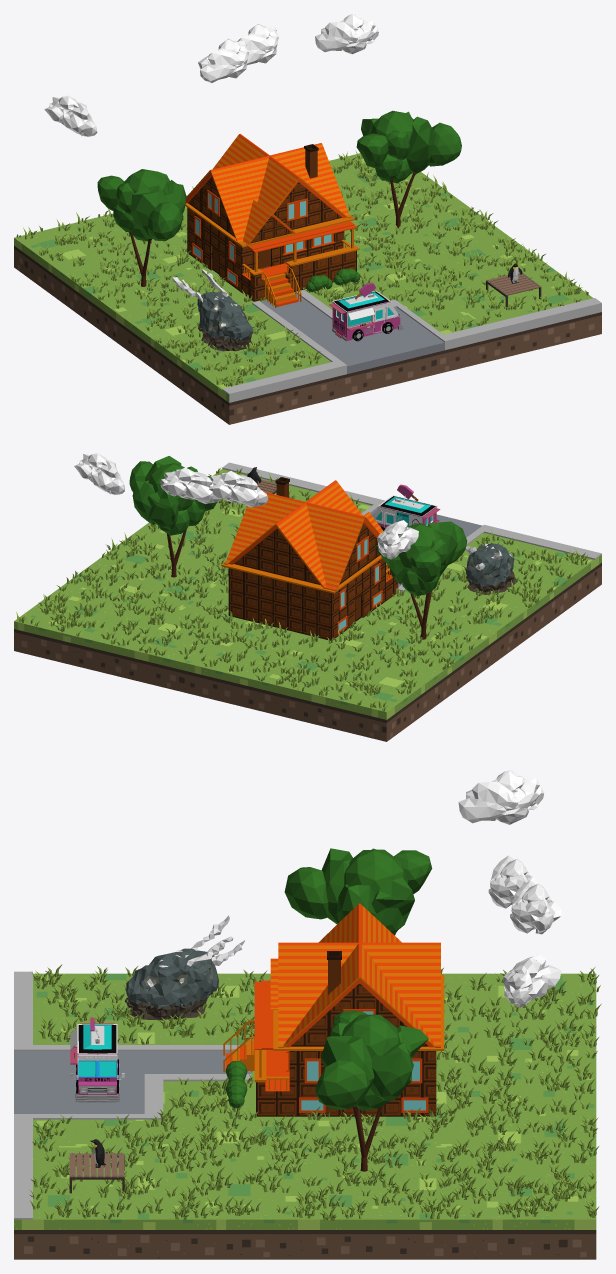
The picture shows the model from 3 angles, top to bottom: view 1: azimuth 30°, elevation 25°; view 2: azimuth 150°, elevation 25°; view 3: azimuth 270°, elevation 25°; orthographic projection. The views are drawn at different scales.
Visible parts, largest first — view 1: Cube.006, Cube, Circle.012_Grass_0.192, Cube.007, tree, tree.001, OBJRANDOM_METEORITE, VEHICLES_ICE_CREAM_TRUCK, Cube.009; view 2: Cube.006, Cube, Circle.012_Grass_0.192, Cube.007, tree.001, tree, OBJRANDOM_METEORITE, VEHICLES_ICE_CREAM_TRUCK; view 3: Cube.006, Circle.012_Grass_0.192, Cube, tree, Cube.007, tree.001, OBJRANDOM_METEORITE, VEHICLES_ICE_CREAM_TRUCK, Cube.009.
Boxes of the visible parts, x1,y1,x2,y2 form: Cube.006: (14,153,601,424); Cube: (185,134,359,307); Circle.012_Grass_0.192: (16,150,588,386); Cube.007: (44,14,378,136); tree: (356,110,461,228); tree.001: (97,169,186,286); OBJRANDOM_METEORITE: (172,269,252,351); VEHICLES_ICE_CREAM_TRUCK: (329,282,403,341); Cube.009: (486,272,541,306); Cube.006: (14,462,601,741); Cube: (221,477,398,640); Circle.012_Grass_0.192: (16,468,588,711); Cube.007: (74,453,418,559); tree.001: (375,521,467,639); tree: (129,456,216,577); OBJRANDOM_METEORITE: (465,543,516,594); VEHICLES_ICE_CREAM_TRUCK: (372,484,440,530); Cube.006: (14,971,596,1259); Circle.012_Grass_0.192: (29,964,601,1220); Cube: (223,903,444,1116); tree: (315,1010,428,1171); Cube.007: (458,770,561,1007); tree.001: (284,848,432,935); OBJRANDOM_METEORITE: (124,915,244,1020); VEHICLES_ICE_CREAM_TRUCK: (70,1017,124,1102); Cube.009: (69,1153,124,1193).
Bounding box in the file's own units: 4071 × 2192 × 4040.
Materials: 41 (4 with a texture image).
